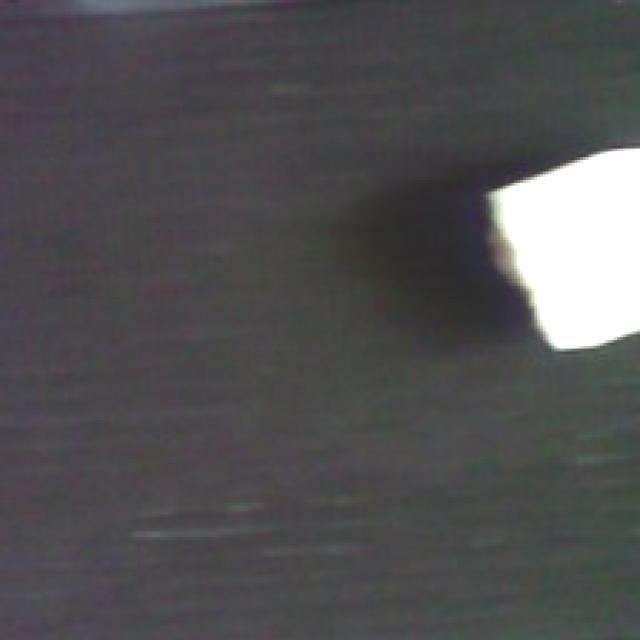defected: (480, 140, 640, 360)
